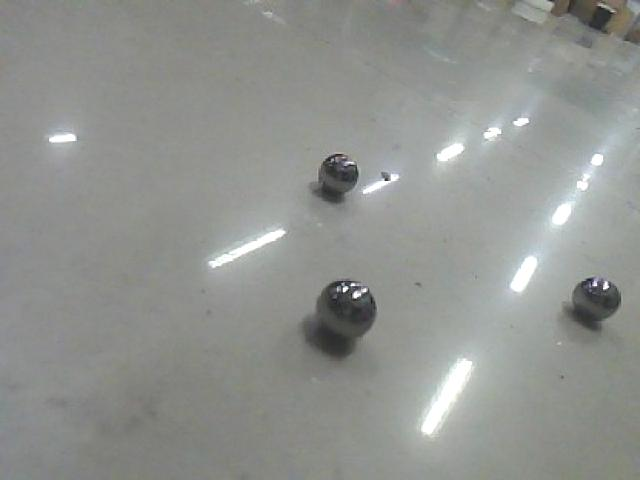steel-ball: (292, 248, 385, 358), (303, 128, 368, 207), (560, 254, 623, 334)
